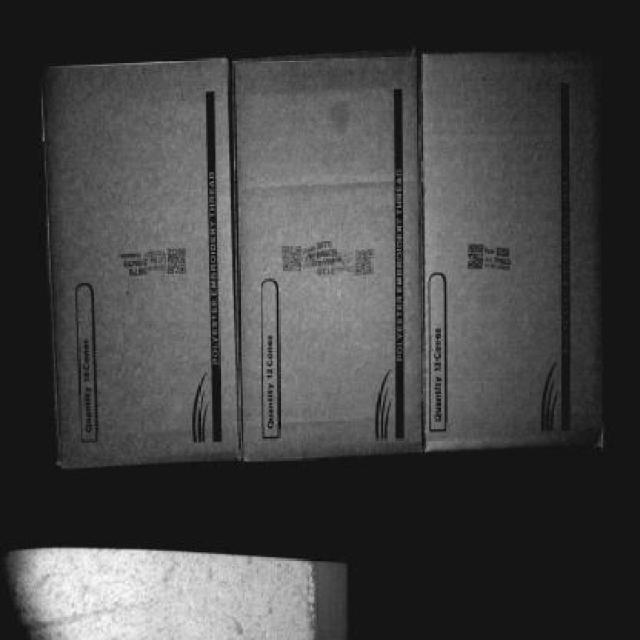cardboxes: (62, 63, 242, 451), (418, 66, 587, 451), (244, 83, 413, 442)
